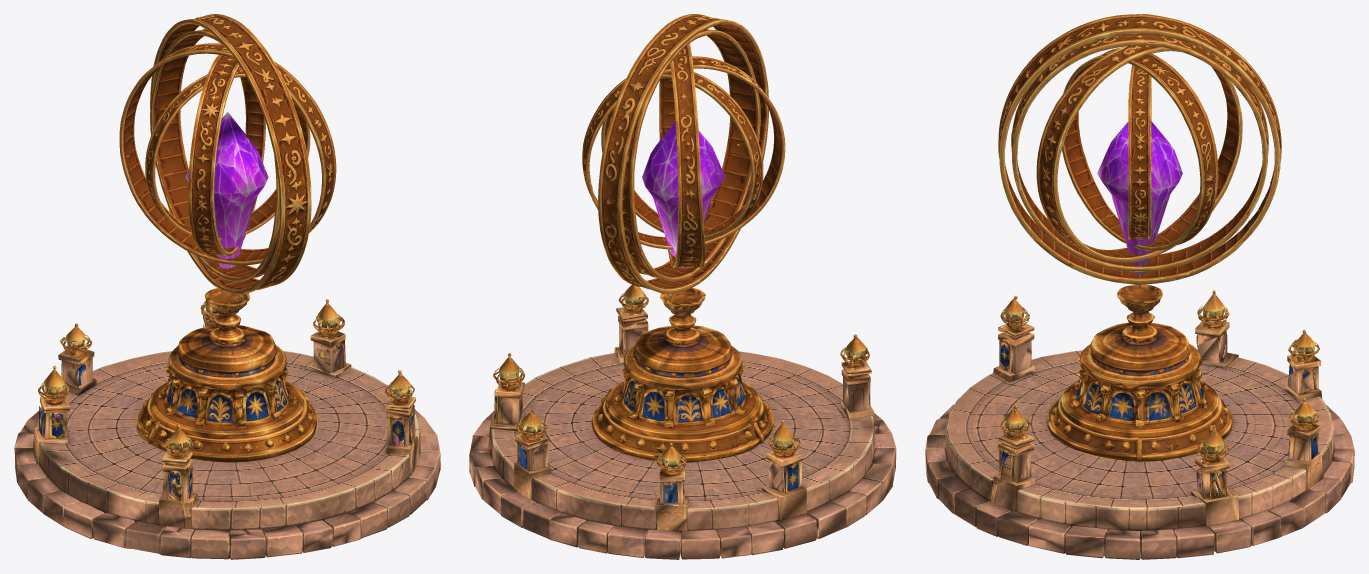
Rendered from armillary.glb.
3 renders of one model, left to right at view 1: azimuth 30°, elevation 25°; view 2: azimuth 150°, elevation 25°; view 3: azimuth 270°, elevation 25°, orthographic.
Visible parts, largest first — view 1: armillary-base, ring-0, ring-2, ring-3, ring-1, ring-4; view 2: armillary-base, ring-0, ring-1, ring-2, ring-3, ring-4; view 3: armillary-base, ring-0, ring-2, ring-1, ring-3, ring-4.
Boxes of the visible parts, x1,y1,x2,y2 form: armillary-base: (14, 112, 440, 559); ring-0: (150, 14, 311, 294); ring-2: (119, 43, 336, 265); ring-3: (188, 55, 265, 255); ring-1: (150, 28, 279, 281); ring-4: (145, 67, 310, 240); armillary-base: (469, 121, 896, 559); ring-0: (598, 14, 768, 293); ring-1: (622, 28, 760, 281); ring-2: (659, 43, 705, 267); ring-3: (582, 56, 785, 249); ring-4: (601, 72, 763, 239); armillary-base: (925, 121, 1354, 559); ring-0: (998, 14, 1281, 284); ring-2: (1036, 45, 1242, 262); ring-1: (1011, 35, 1268, 271); ring-3: (1062, 48, 1218, 250); ring-4: (1128, 65, 1151, 239).
Size of the model in its own units: 15 by 17.31 by 14.98.
2 materials, 2 textured.
